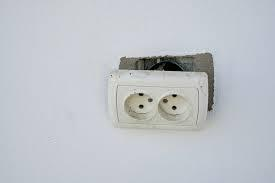broken socket: (109, 52, 213, 130)
